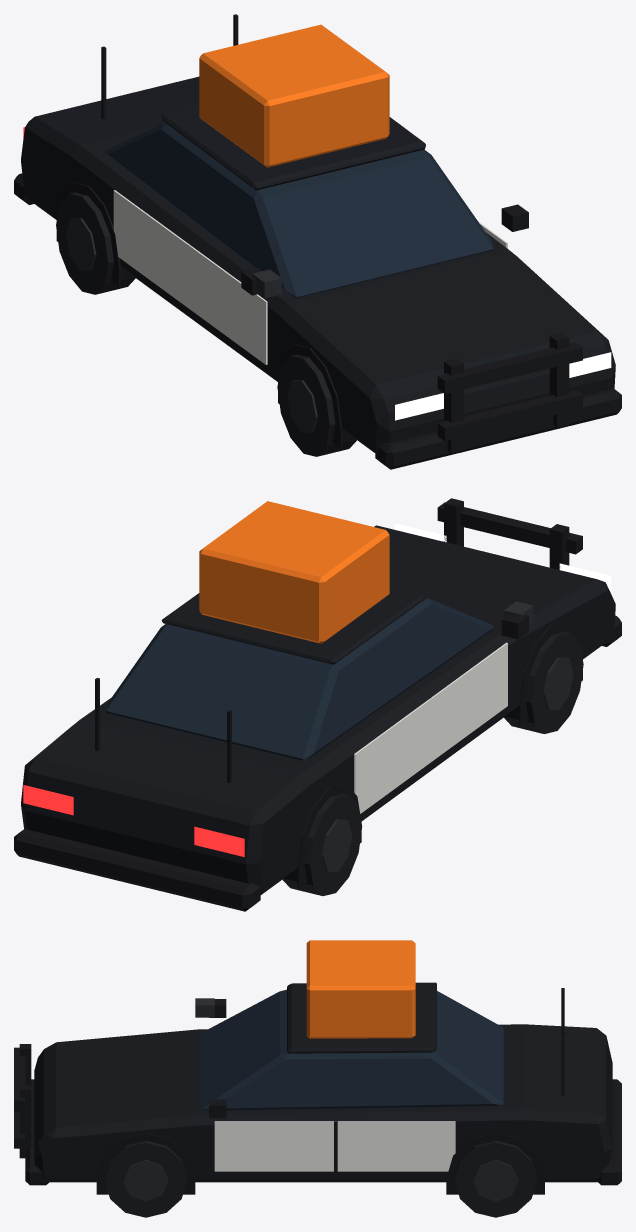
The model's file is interceptor.glb.
The picture shows the model from 3 angles, top to bottom: view 1: azimuth 30°, elevation 25°; view 2: azimuth 150°, elevation 25°; view 3: azimuth 270°, elevation 25°; orthographic projection. The views are drawn at different scales.
Visible parts, largest first — view 1: tub, glasshouse, bag, doors_-1, roof, bumper_f, wheel_RL, wheel_FL, pb_rail_0.5, pb_rail_0.86, wheel_FL_hub, wheel_RL_hub (+8 smaller); view 2: tub, glasshouse, bag, doors_-1, bumper_r, roof, wheel_RL, wheel_FL, pb_rail_0.86, wheel_RL_hub, wheel_FL_hub, arch_-1.5_-1 (+6 smaller); view 3: tub, glasshouse, doors_1, bag, roof, wheel_FR, wheel_RR, arch_+1.6_1, arch_-1.5_1, wheel_RR_hub, wheel_FR_hub, bumper_r (+4 smaller).
Boxes of the visible parts, x1,y1,x2,y2 form: tub: (21, 76, 615, 453); glasshouse: (105, 123, 493, 298); bag: (199, 24, 389, 167); doors_-1: (113, 190, 267, 364); roof: (161, 105, 425, 190); bumper_f: (375, 387, 621, 469); wheel_RL: (56, 192, 135, 294); wheel_FL: (277, 354, 356, 456); pb_rail_0.5: (437, 389, 582, 441); pb_rail_0.86: (437, 342, 582, 393); wheel_FL_hub: (287, 380, 317, 432); wheel_RL_hub: (66, 218, 96, 270); tub: (21, 525, 615, 894); glasshouse: (105, 597, 493, 760); bag: (199, 501, 389, 643); doors_-1: (354, 642, 507, 813); bumper_r: (14, 828, 260, 911); roof: (161, 586, 425, 664); wheel_RL: (282, 793, 362, 895); wheel_FL: (504, 631, 583, 733); pb_rail_0.86: (437, 502, 582, 554); wheel_RL_hub: (321, 819, 352, 872); wheel_FL_hub: (543, 657, 573, 709); arch_-1.5_-1: (297, 783, 361, 887); tub: (34, 1024, 612, 1182); glasshouse: (201, 989, 503, 1110); doors_1: (214, 1121, 455, 1171); bag: (306, 940, 415, 1038); roof: (287, 982, 436, 1053); wheel_FR: (104, 1140, 187, 1217); wheel_RR: (454, 1140, 536, 1217); arch_+1.6_1: (96, 1133, 195, 1194); arch_-1.5_1: (446, 1133, 544, 1194); wheel_RR_hub: (473, 1160, 518, 1201); wheel_FR_hub: (123, 1160, 168, 1201); bumper_r: (597, 1079, 621, 1185).
Bounding box in the file's own units: 2.2 × 1.98 × 5.3.
